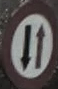Two way: (2, 6, 55, 78)
